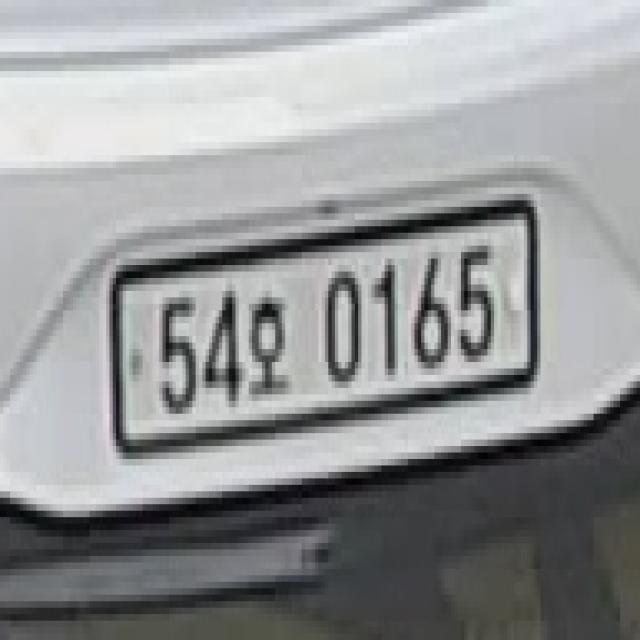0: (318, 252, 365, 394)
1: (365, 233, 401, 388)
4: (202, 278, 249, 407)
5: (149, 258, 199, 426), (454, 226, 504, 375)
6: (408, 246, 457, 375)
ho: (236, 278, 305, 394)
license_plate: (100, 194, 550, 485)
